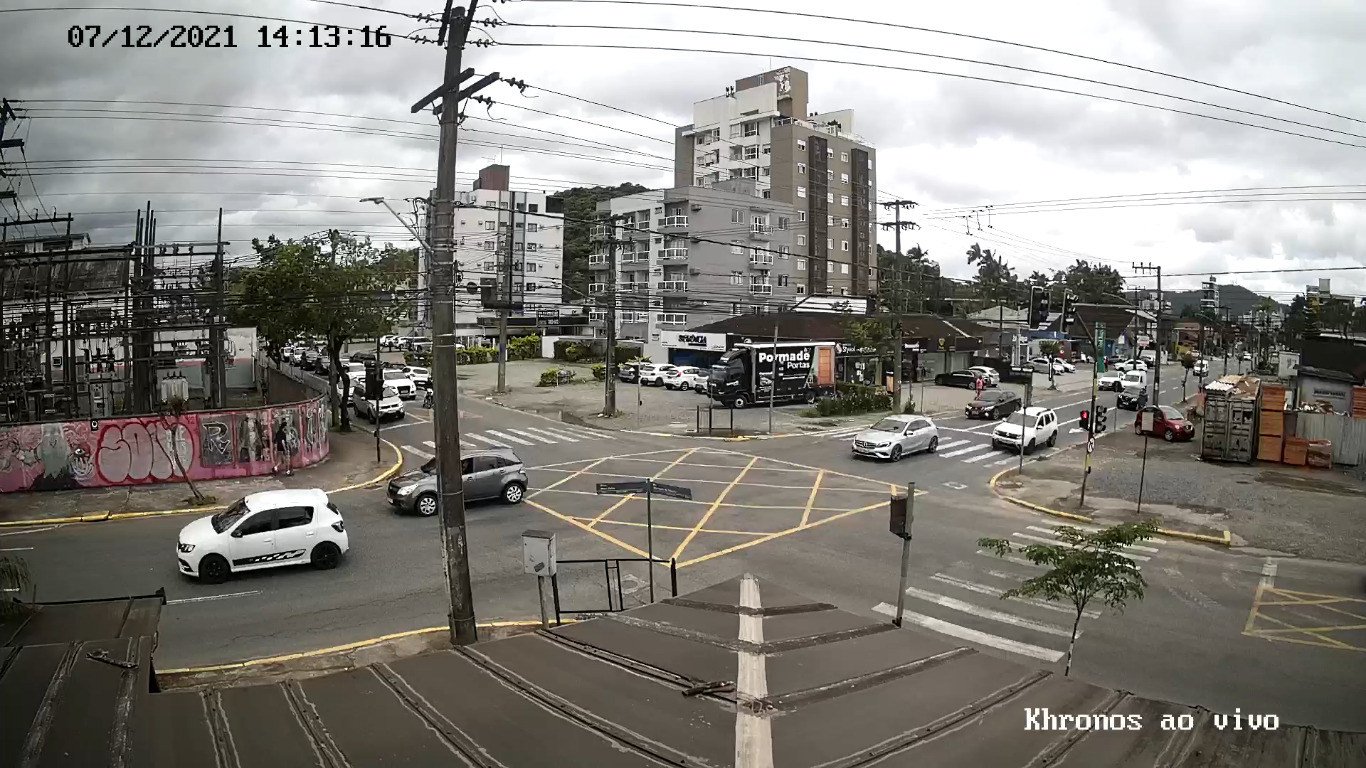car: (177, 488, 349, 584), (387, 445, 529, 516), (851, 413, 940, 462)
